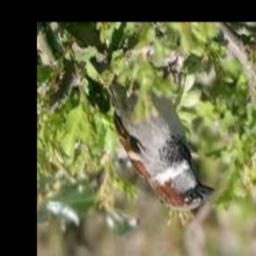Sparrow: (105, 80, 215, 211)
